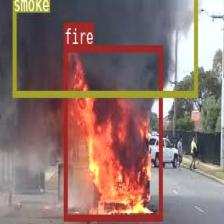fire: (63, 45, 162, 220)
smoke: (12, 0, 197, 96)
